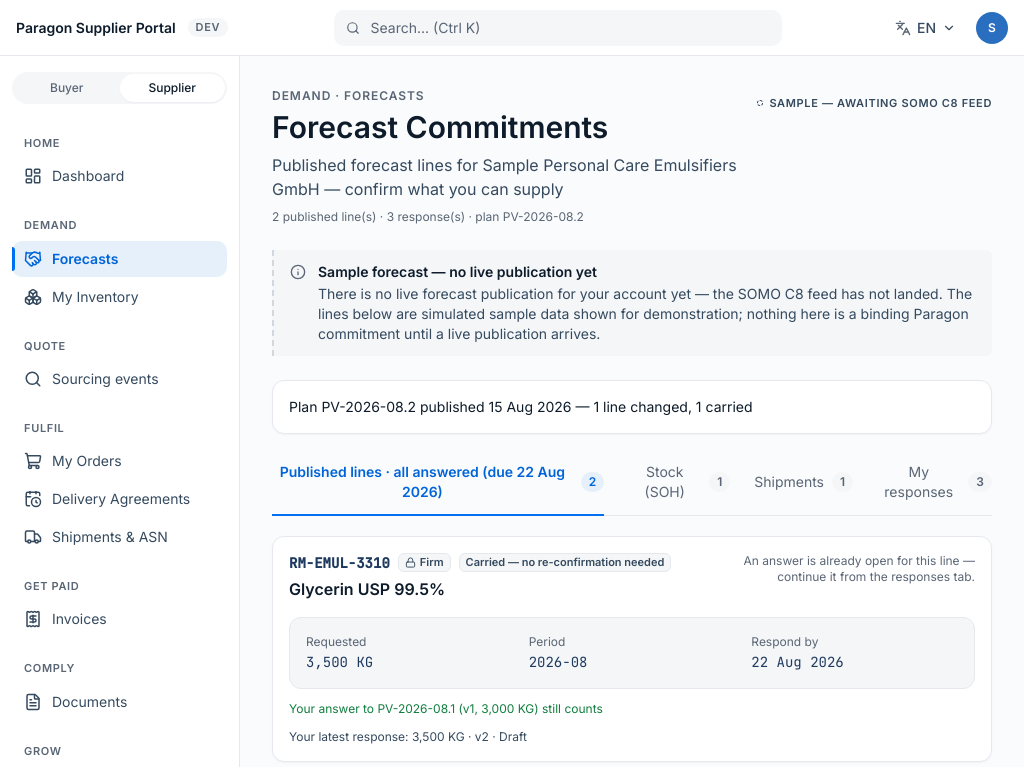
Scenario: SDC-3 · the supplier’s page — a revision starts from what was said, and replaces only when sent › with a revision drafted, the prior says so in place of Revise — and still reads Disputed
Click the tab "My responses 3": (935, 483) x1=877 y1=450 x2=992 y2=516
(page scrolled)
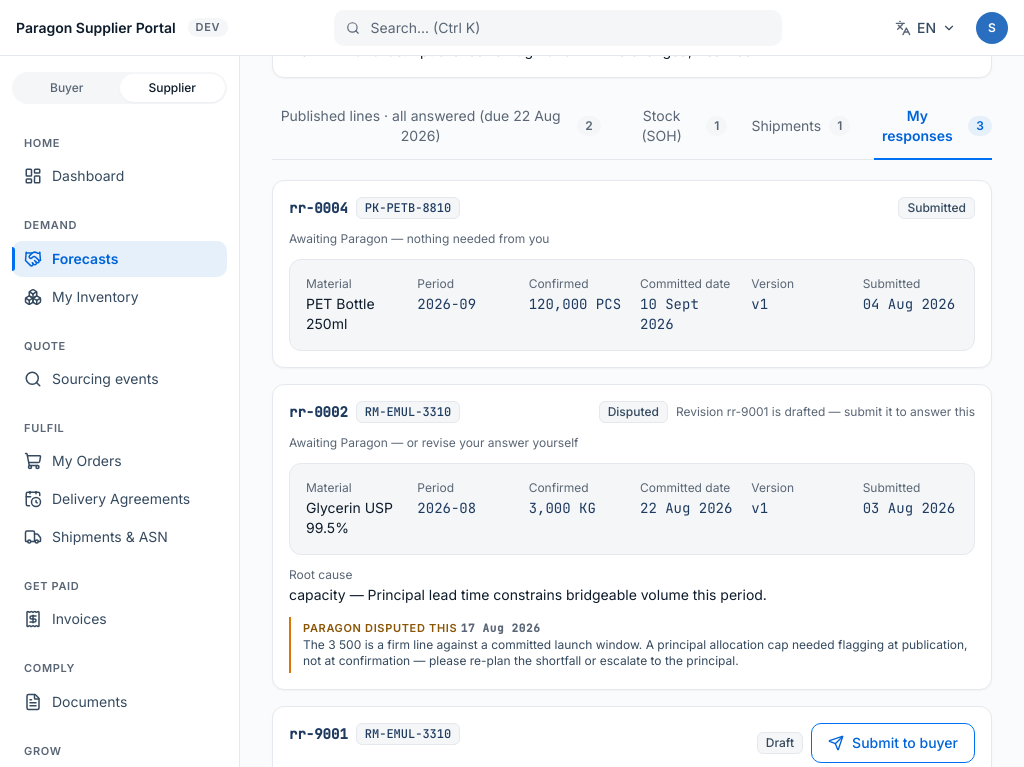
Expected: the text "Revision rr-9001 is drafted — submit it to answer this" is shown, x1=676 y1=404 x2=975 y2=420
Expected: the text "Disputed" is shown, x1=599 y1=401 x2=668 y2=423
